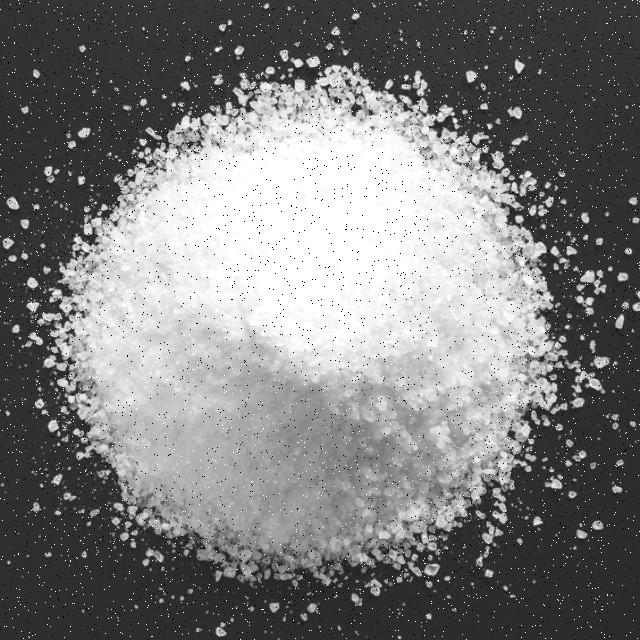Sugar: (88, 95, 561, 563)
